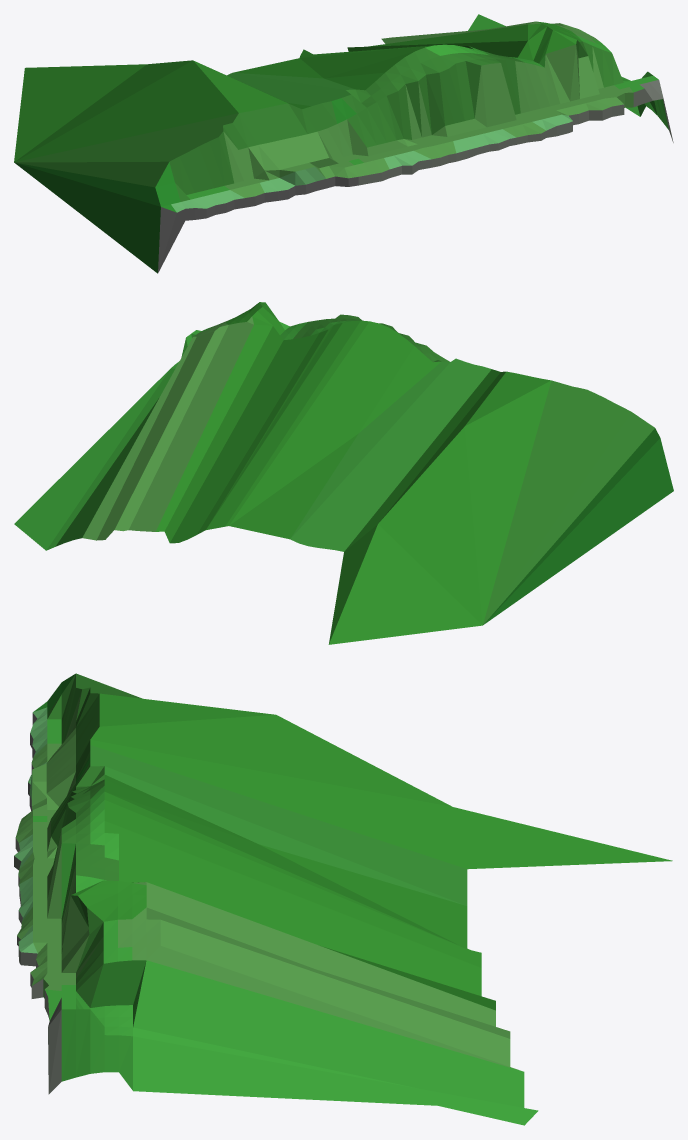
File: chaof2.fbx
The picture shows the model from 3 angles, top to bottom: view 1: azimuth 30°, elevation 25°; view 2: azimuth 150°, elevation 25°; view 3: azimuth 270°, elevation 25°; orthographic projection. The views are drawn at different scales.
Parts seen in each view (by area): view 1: Mapa.002; view 2: Mapa.002; view 3: Mapa.002.
Boxes of the visible parts, box(x1,y1,x2,y2) form: Mapa.002: box(14, 14, 673, 273); Mapa.002: box(14, 302, 673, 644); Mapa.002: box(14, 673, 672, 1125).
Bounding box in the file's own units: 41332 × 13241 × 36096.
